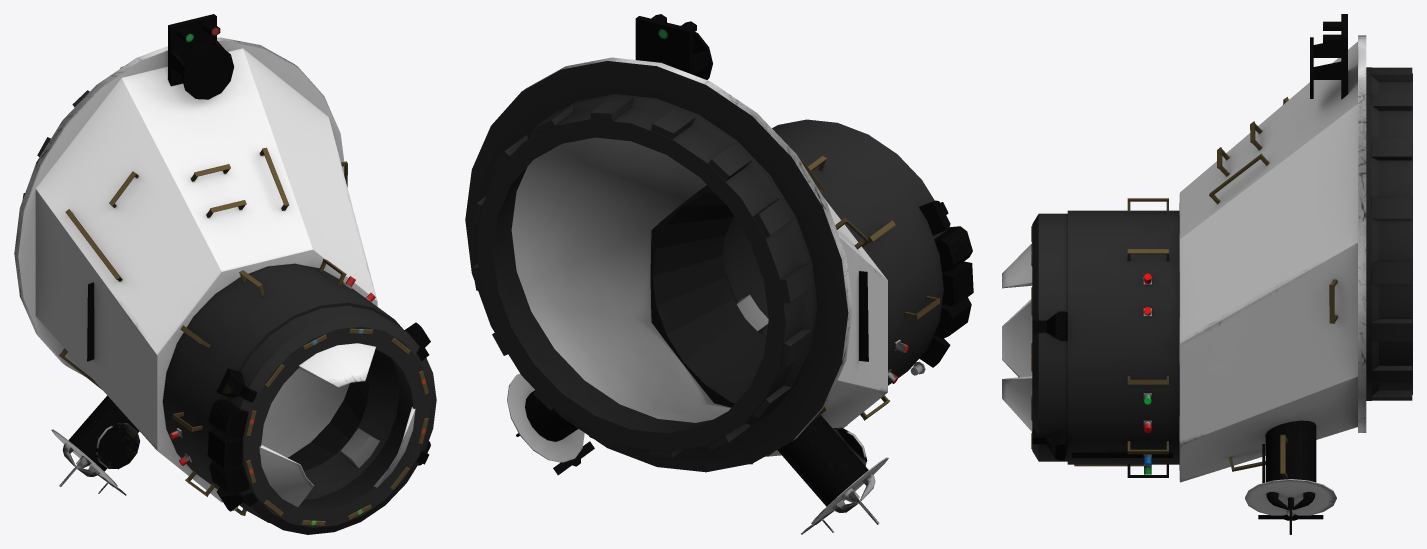
Rendered from IssModule_H.FBX.
3 views of the same model, side by side, from view 1: azimuth 30°, elevation 25°; view 2: azimuth 150°, elevation 25°; view 3: azimuth 270°, elevation 25° (orthographic). The views are drawn at different scales.
Visible parts, largest first — view 1: IssModule_H; view 2: IssModule_H; view 3: IssModule_H.
Part boxes in pixels (x1,y1,x2,y2): IssModule_H: [14, 14, 436, 534]; IssModule_H: [465, 14, 973, 534]; IssModule_H: [1002, 14, 1412, 534].
Size of the model in its own units: 139 by 173 by 143.
